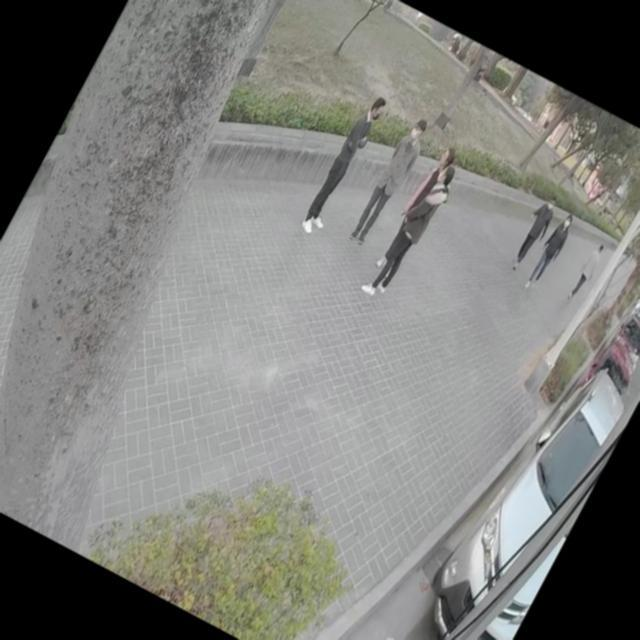person: (354, 150, 464, 312), (368, 135, 466, 284), (299, 90, 389, 234), (346, 113, 433, 250), (520, 200, 584, 292), (502, 185, 564, 274), (559, 234, 611, 308)
